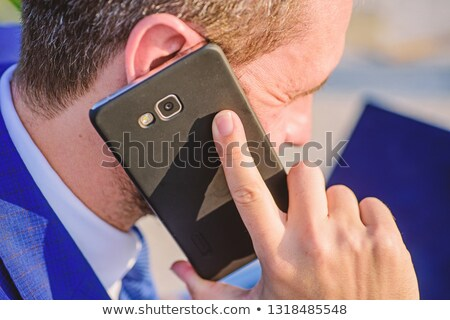phone: (81, 64, 311, 266)
